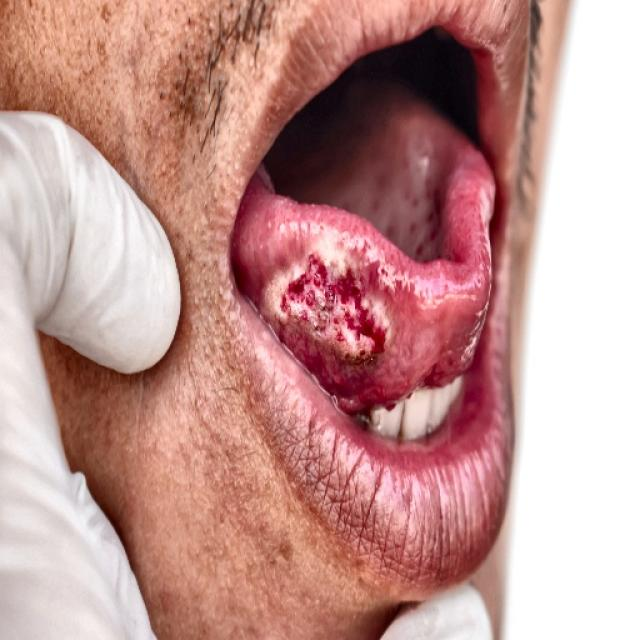cancer-detection: (255, 243, 399, 386)
processing_area: (221, 69, 498, 416)
